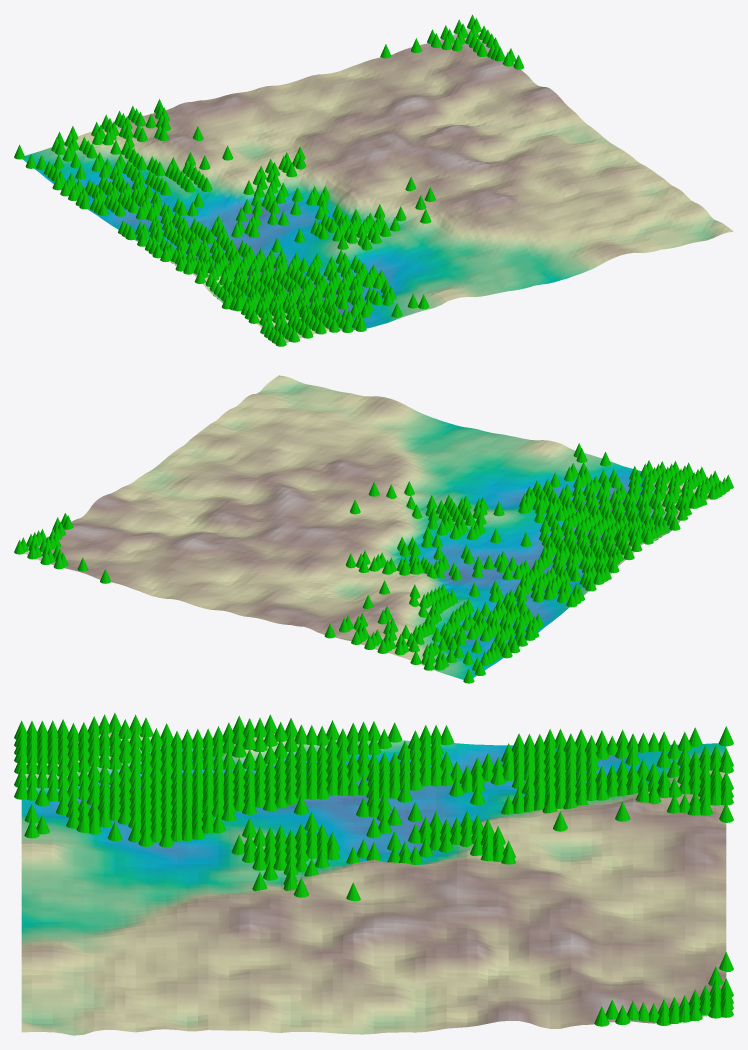
File: 003778_with_tree.glb
The picture shows the model from 3 angles, top to bottom: view 1: azimuth 30°, elevation 25°; view 2: azimuth 150°, elevation 25°; view 3: azimuth 270°, elevation 25°; orthographic projection. The views are drawn at different scales.
Parts seen in each view (by area): view 1: terrain, trees; view 2: terrain, trees; view 3: terrain, trees.
Boxes of the visible parts, x1,y1,x2,y2 form: terrain: (22, 28, 733, 342); trees: (14, 14, 524, 346); terrain: (24, 375, 718, 679); trees: (14, 443, 733, 683); terrain: (21, 732, 726, 1035); trees: (14, 713, 733, 1026).
Bounding box in the file's own units: 0.0187 × 0.00149 × 0.0187.
